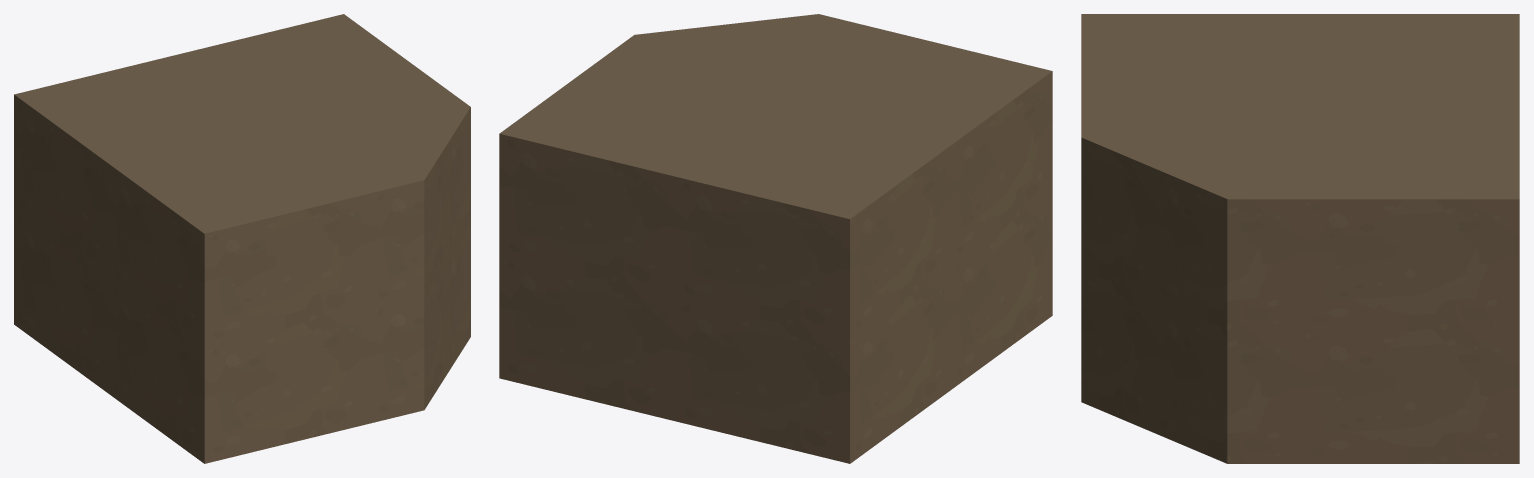
File: Bock_F5.fbx
3 views of the same model, side by side, from view 1: azimuth 30°, elevation 25°; view 2: azimuth 150°, elevation 25°; view 3: azimuth 270°, elevation 25° (orthographic). The views are drawn at different scales.
Visible parts, largest first — view 1: Bock_F5; view 2: Bock_F5; view 3: Bock_F5.
Boxes of the visible parts, x1=… form: Bock_F5: x1=14, y1=14, x2=470, y2=463; Bock_F5: x1=499, y1=14, x2=1052, y2=463; Bock_F5: x1=1081, y1=14, x2=1519, y2=463.
Bounding box in the file's own units: 600 × 400 × 600.
